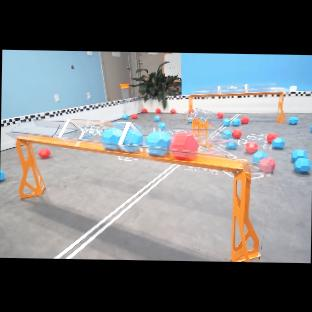V5_BLUE: (144, 126, 169, 155), (291, 148, 310, 171), (287, 115, 298, 124)
V5_RED: (169, 132, 197, 153), (261, 159, 274, 172), (244, 142, 257, 152), (233, 128, 239, 139), (241, 115, 248, 123)
blueingoal: (101, 127, 122, 150), (145, 131, 170, 148), (122, 128, 142, 144), (148, 149, 167, 156), (125, 147, 139, 152)
pieces: (118, 124, 198, 158)
